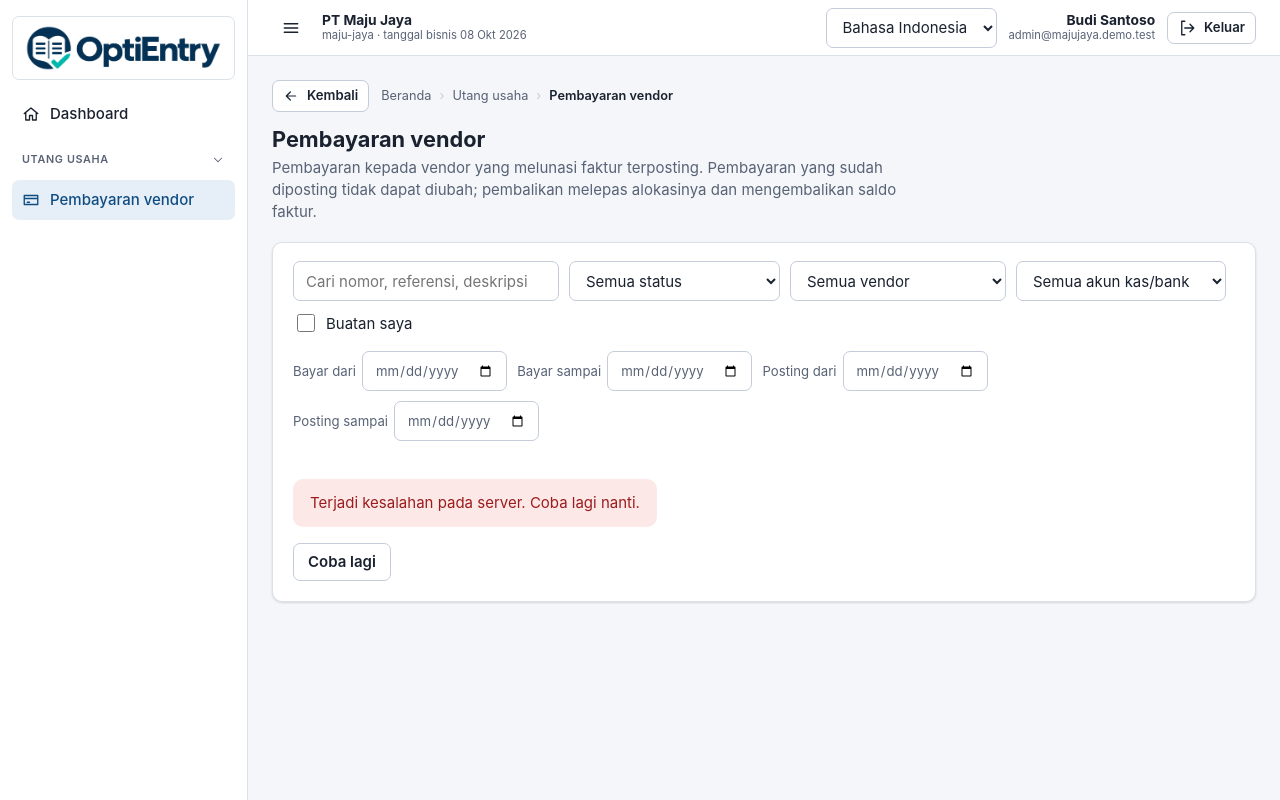
Test case: vendor payment list › shows an error with a retry, and an empty state
Expected: the text "Terjadi kesalahan pada server. Coba lagi nanti." is shown, left=310, top=492, right=640, bottom=514
Click the button "Coba lagi" at x=342, y=562, box left=293, top=543, right=391, bottom=581
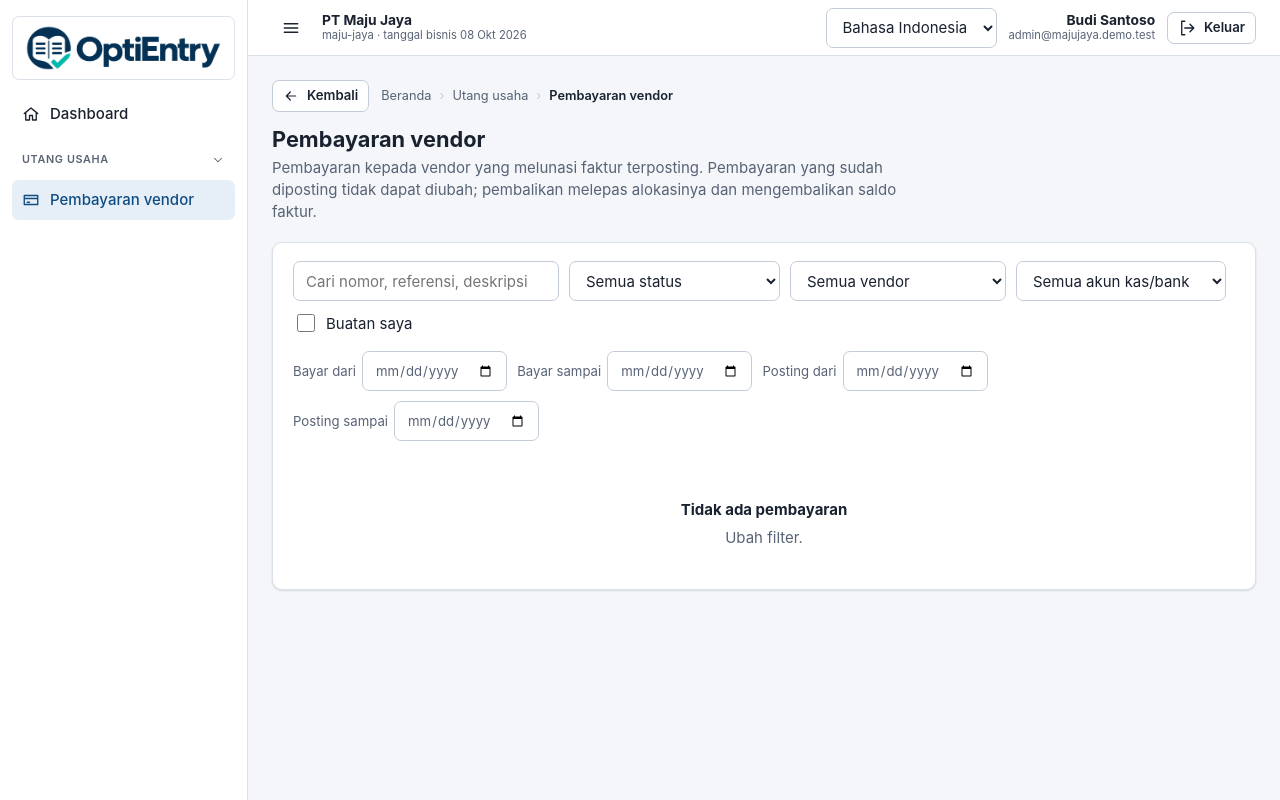
Now the text "Tidak ada pembayaran" is shown, box left=681, top=499, right=847, bottom=521
